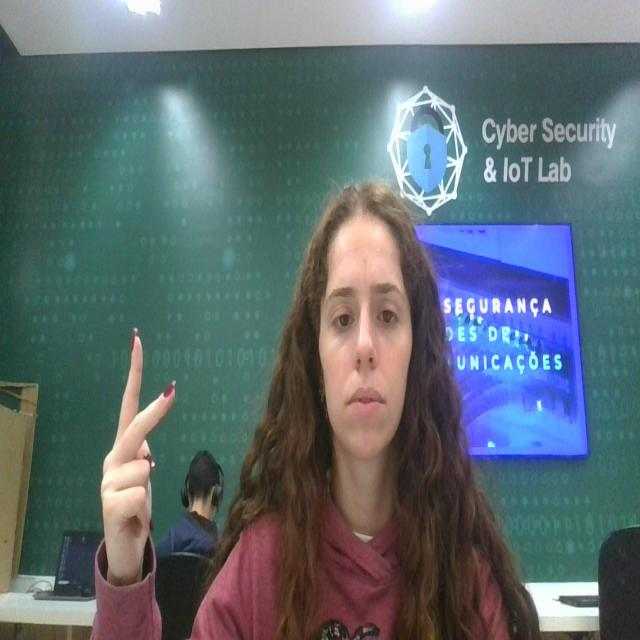K: (94, 322, 184, 567)
